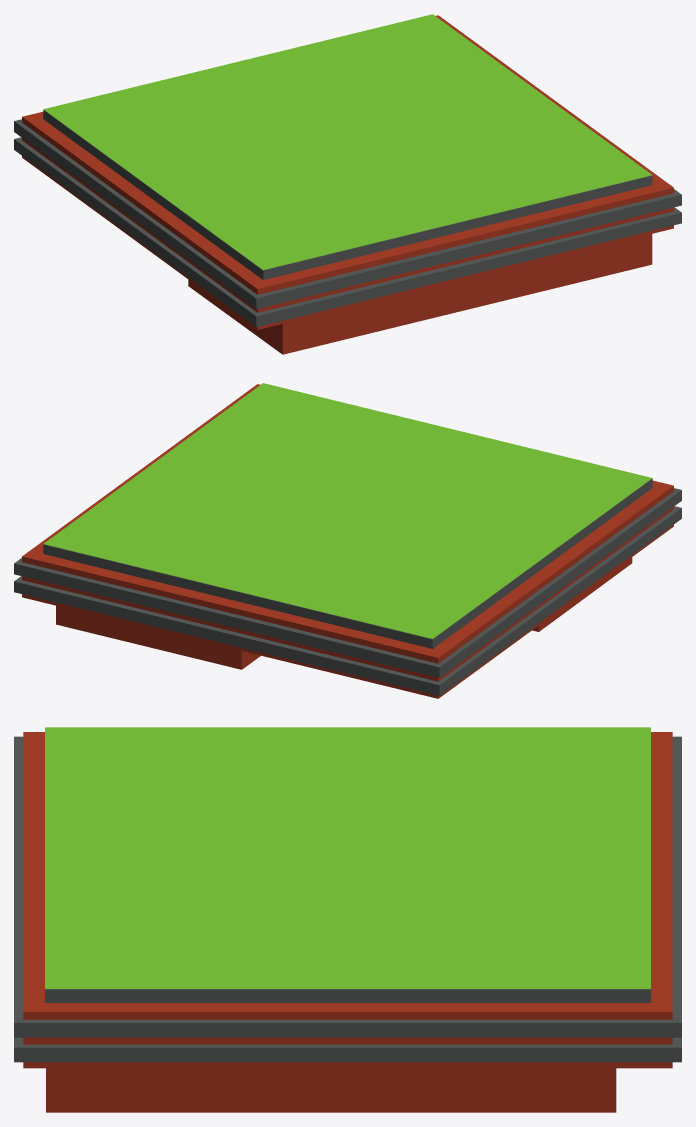
The model's file is block_S.glb.
The picture shows the model from 3 angles, top to bottom: view 1: azimuth 30°, elevation 25°; view 2: azimuth 150°, elevation 25°; view 3: azimuth 270°, elevation 25°; orthographic projection. The views are drawn at different scales.
Parts seen in each view (by area): view 1: Cube.022, Cube.037, Cube.001, Cube.019, Cube.020, Cube.021; view 2: Cube.022, Cube.037, Cube.019, Cube.020, Cube.021, Cube.001; view 3: Cube.022, Cube.037, Cube.001, Cube.020, Cube.019, Cube.021.
Boxes of the visible parts, box(x1,y1,x2,y2) form: Cube.022: box(43, 14, 652, 269); Cube.037: box(22, 15, 673, 329); Cube.001: box(188, 234, 652, 354); Cube.019: box(14, 137, 681, 326); Cube.020: box(14, 119, 681, 309); Cube.021: box(43, 109, 652, 279); Cube.022: box(44, 383, 652, 638); Cube.037: box(22, 384, 673, 698); Cube.019: box(14, 506, 681, 695); Cube.020: box(14, 488, 681, 677); Cube.021: box(43, 478, 652, 648); Cube.001: box(56, 557, 632, 669); Cube.022: box(45, 727, 650, 988); Cube.037: box(23, 732, 672, 1068); Cube.001: box(46, 1068, 616, 1112); Cube.020: box(14, 736, 681, 1037); Cube.019: box(14, 1037, 681, 1062); Cube.021: box(45, 989, 650, 1002).
Bounding box in the file's own units: 1.04 × 0.2101 × 1.03.
